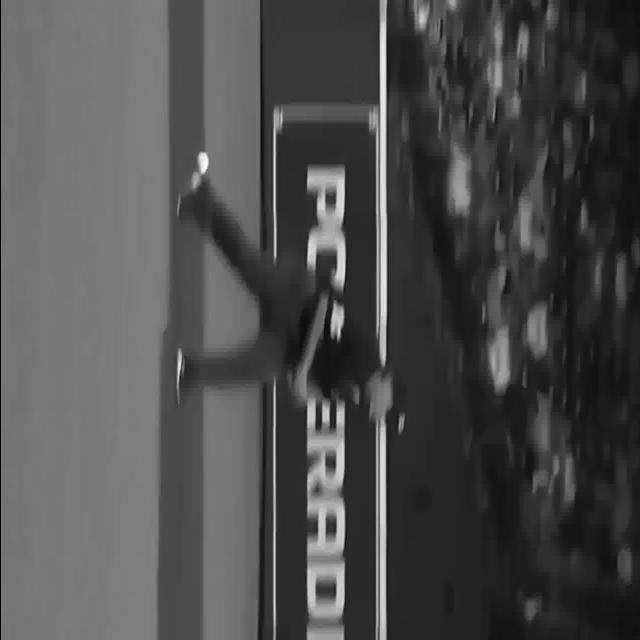baseball: (196, 150, 208, 174)
shoe: (176, 172, 210, 220), (175, 346, 185, 404)
